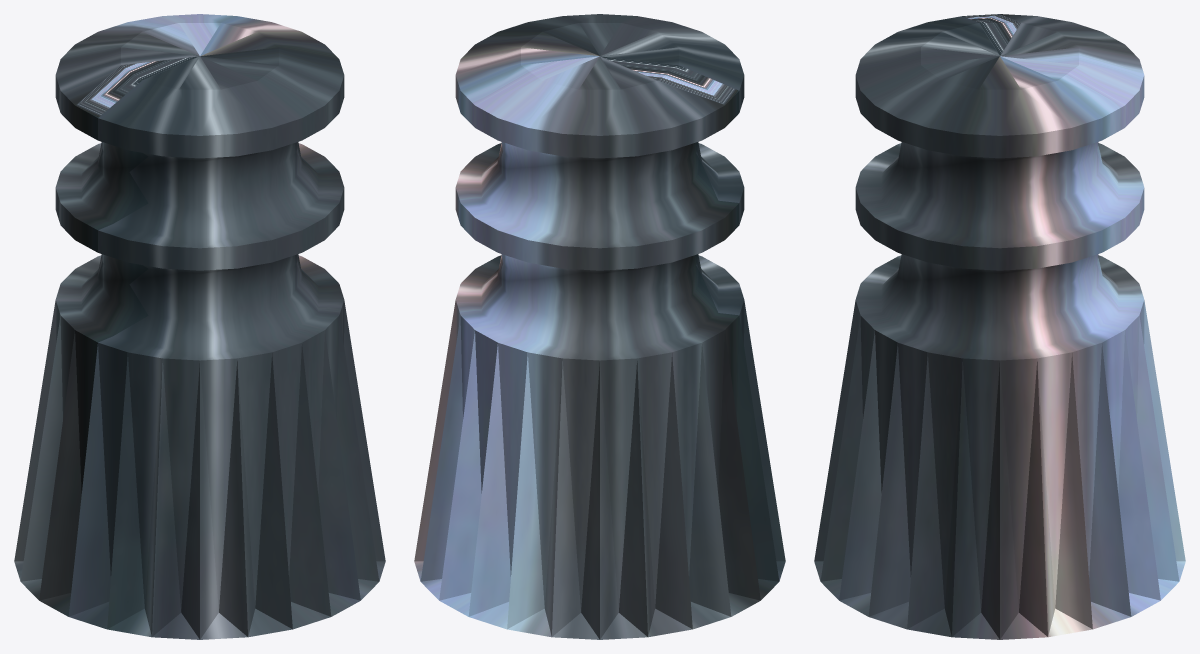
Rendered from PegPlasticT23.fbx.
3 views of the same model, side by side, from view 1: azimuth 30°, elevation 25°; view 2: azimuth 150°, elevation 25°; view 3: azimuth 270°, elevation 25° (orthographic).
Visible parts, largest first — view 1: PegPlasticT23; view 2: PegPlasticT23; view 3: PegPlasticT23.
Boxes of the visible parts, box(x1,y1,x2,y2) form: PegPlasticT23: box(14, 14, 385, 639); PegPlasticT23: box(414, 14, 785, 639); PegPlasticT23: box(814, 14, 1185, 639).
Bounding box in the file's own units: 1.85 × 2.77 × 1.85.
1 material, 1 textured.
